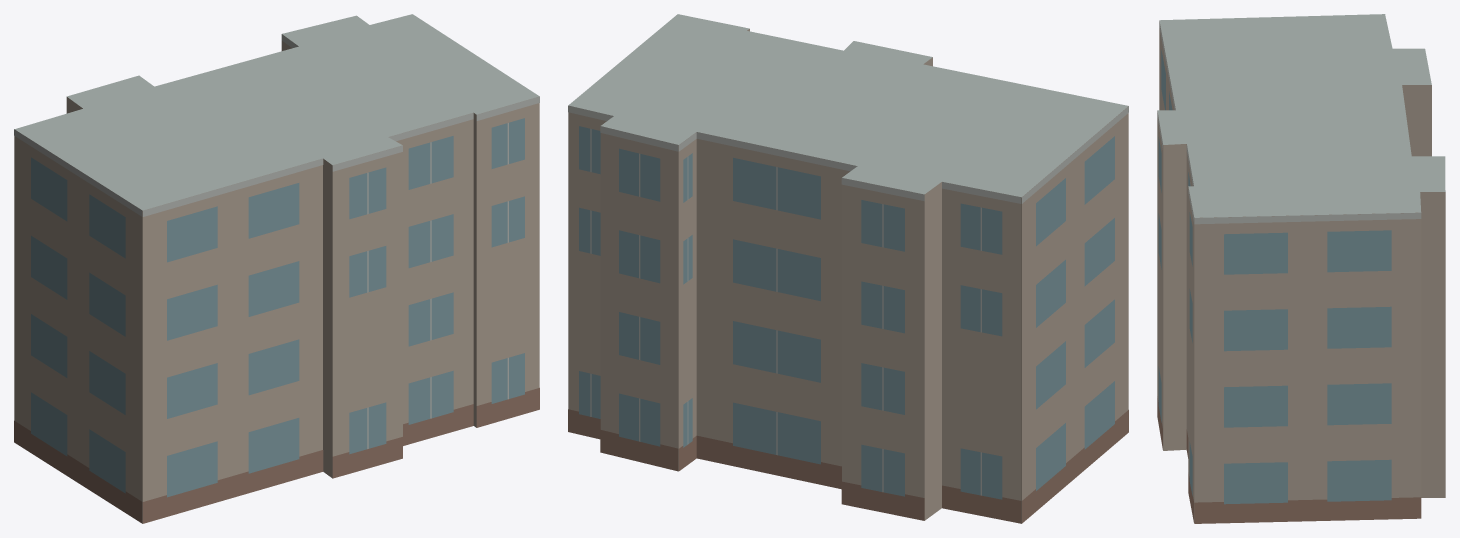
The model's file is survey-upis-32957357.glb.
3 views of the same model, side by side, from view 1: azimuth 30°, elevation 25°; view 2: azimuth 150°, elevation 25°; view 3: azimuth 270°, elevation 25° (orthographic). The views are drawn at different scales.
Parts seen in each view (by area): view 1: survey-upis-32957357.tmp; view 2: survey-upis-32957357.tmp; view 3: survey-upis-32957357.tmp.
Part boxes in pixels (x1=…): survey-upis-32957357.tmp: x1=14, y1=14, x2=539, y2=523; survey-upis-32957357.tmp: x1=568, y1=14, x2=1128, y2=523; survey-upis-32957357.tmp: x1=1157, y1=14, x2=1445, y2=523.
Bounding box in the file's own units: 16.73 × 11.7 × 10.
